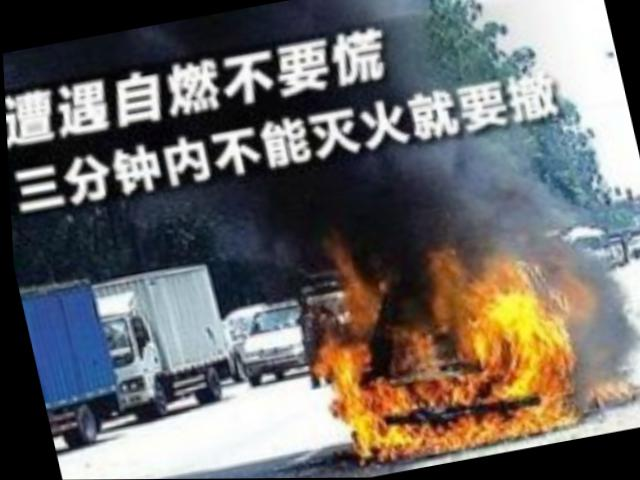fire: (276, 186, 630, 470)
